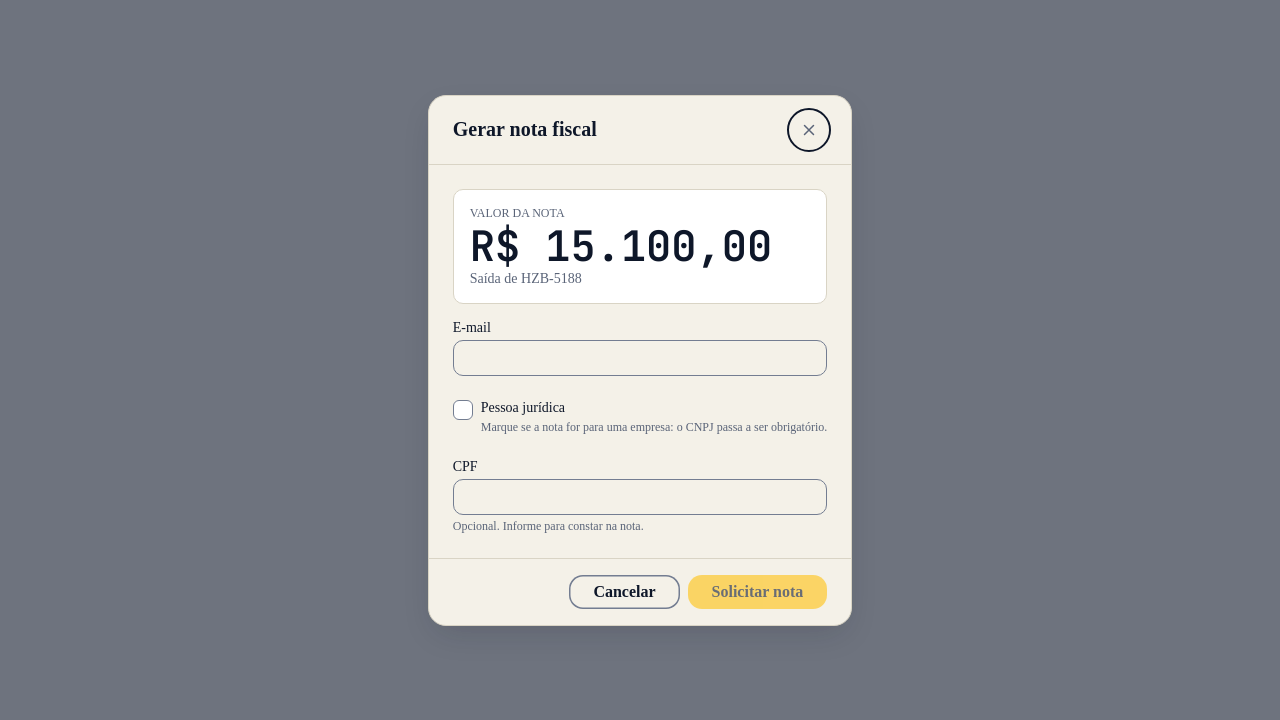
Test: NotaFiscalModal › pessoa jurídica sem CNPJ mostra o erro e não envia
Type "maria@exemplo.com" into the field labelled "E-mail" at (640, 358), box [453,340,827,376]
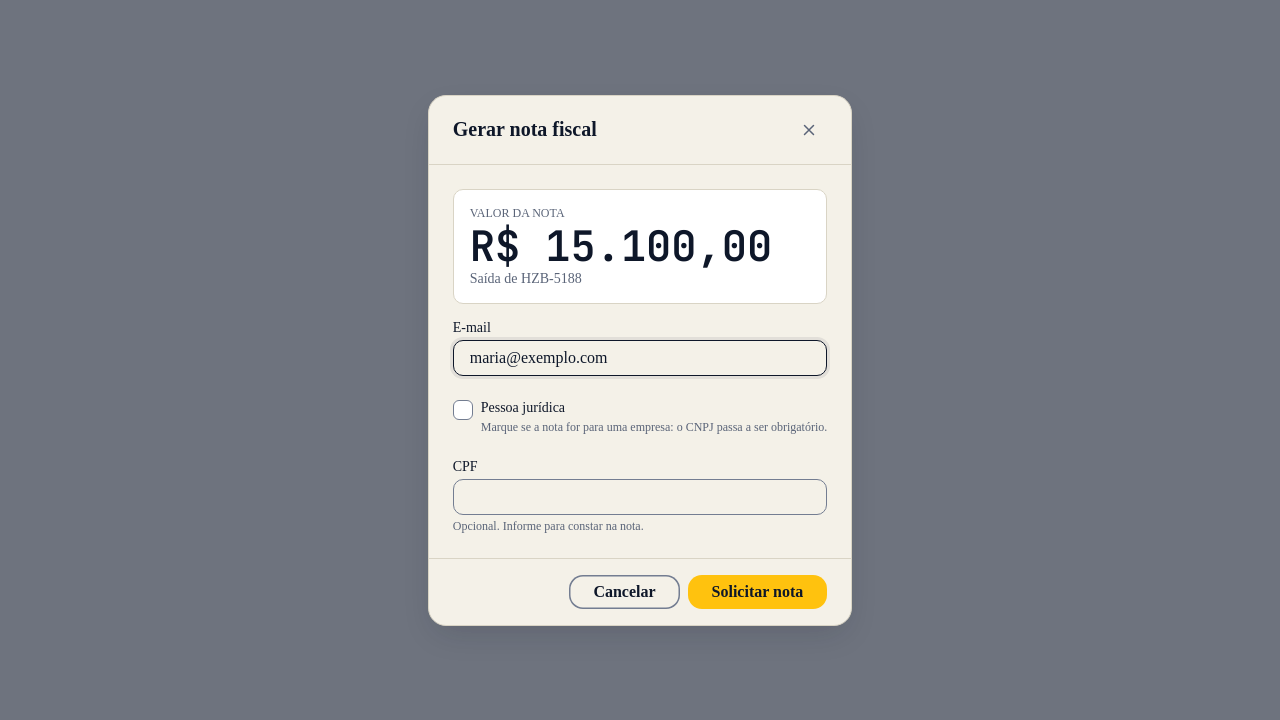
Click the checkbox labelled "Pessoa jurídica" at (640, 417), box [453,392,827,442]
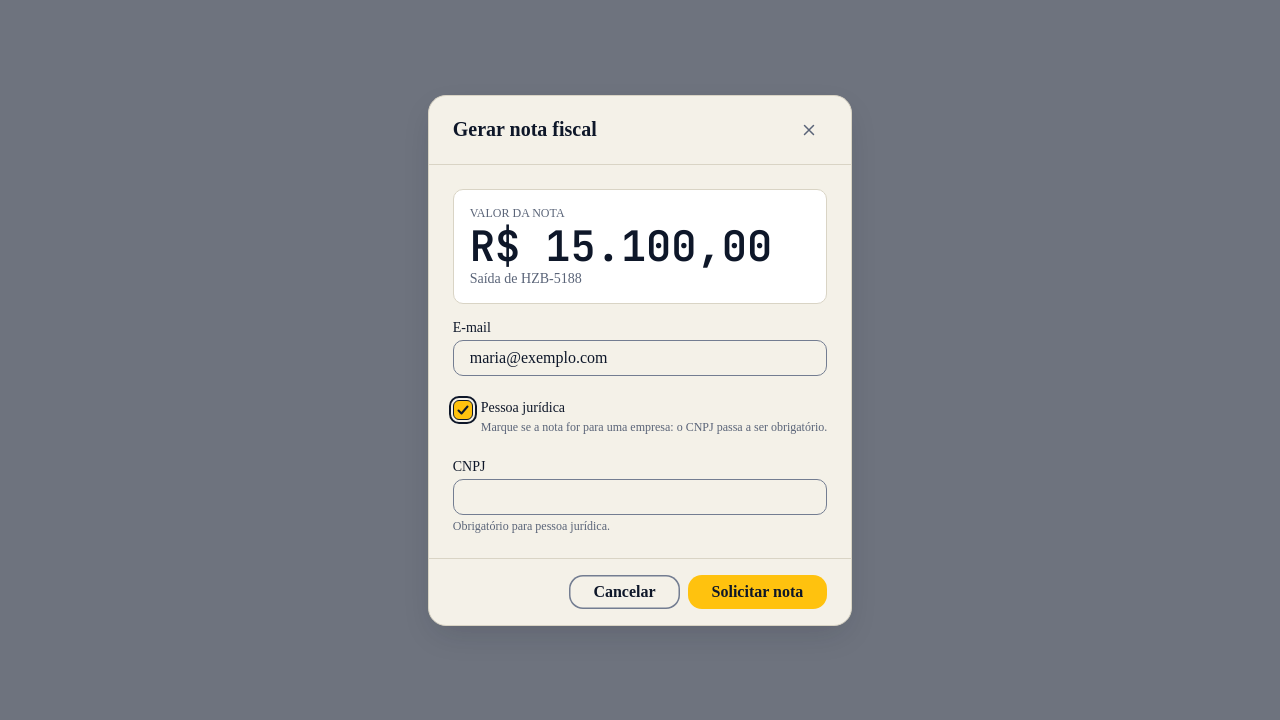
Click the button "Solicitar nota" at (757, 592), box [688,574,827,608]
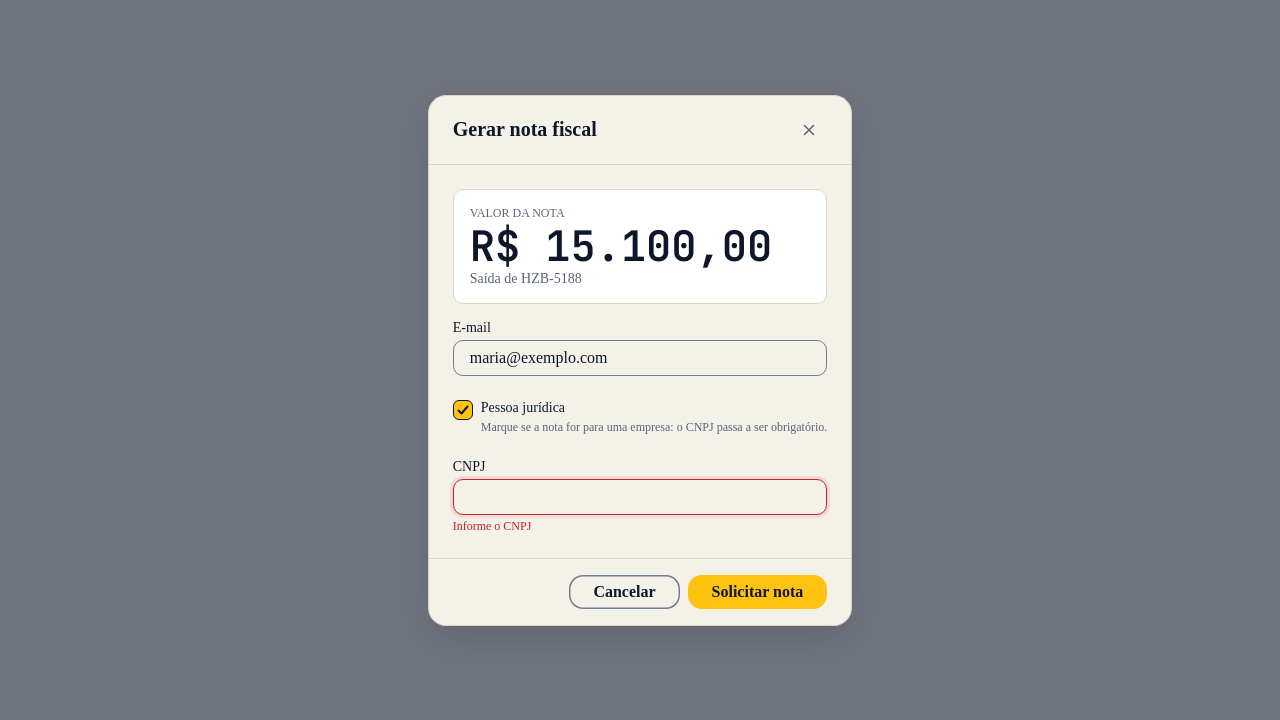
Check: the text "Informe o CNPJ" is shown, box [453,518,531,532]
